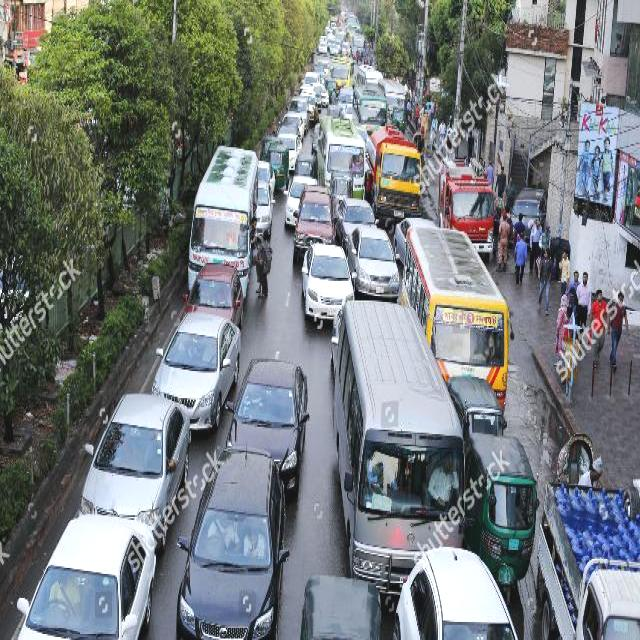BUS: (398, 223, 508, 410), (188, 151, 259, 280), (322, 132, 369, 198)
TRUCK: (539, 487, 638, 640), (374, 141, 424, 220), (443, 180, 492, 256)
